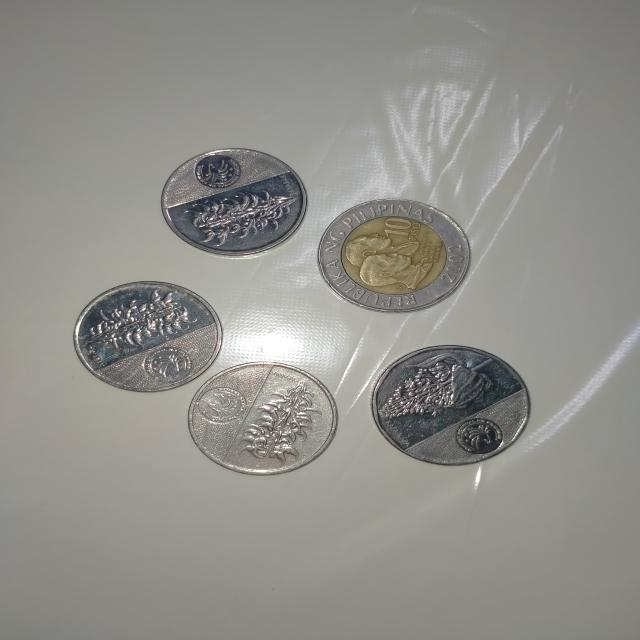10_New_Back: (370, 351, 501, 420)
10_Old_Front: (374, 211, 433, 250)
5_New_Back: (81, 287, 196, 352), (185, 182, 297, 248)
